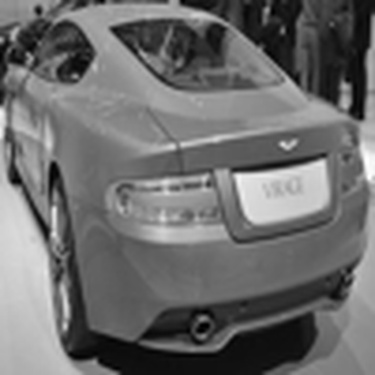car: (4, 2, 370, 370)
